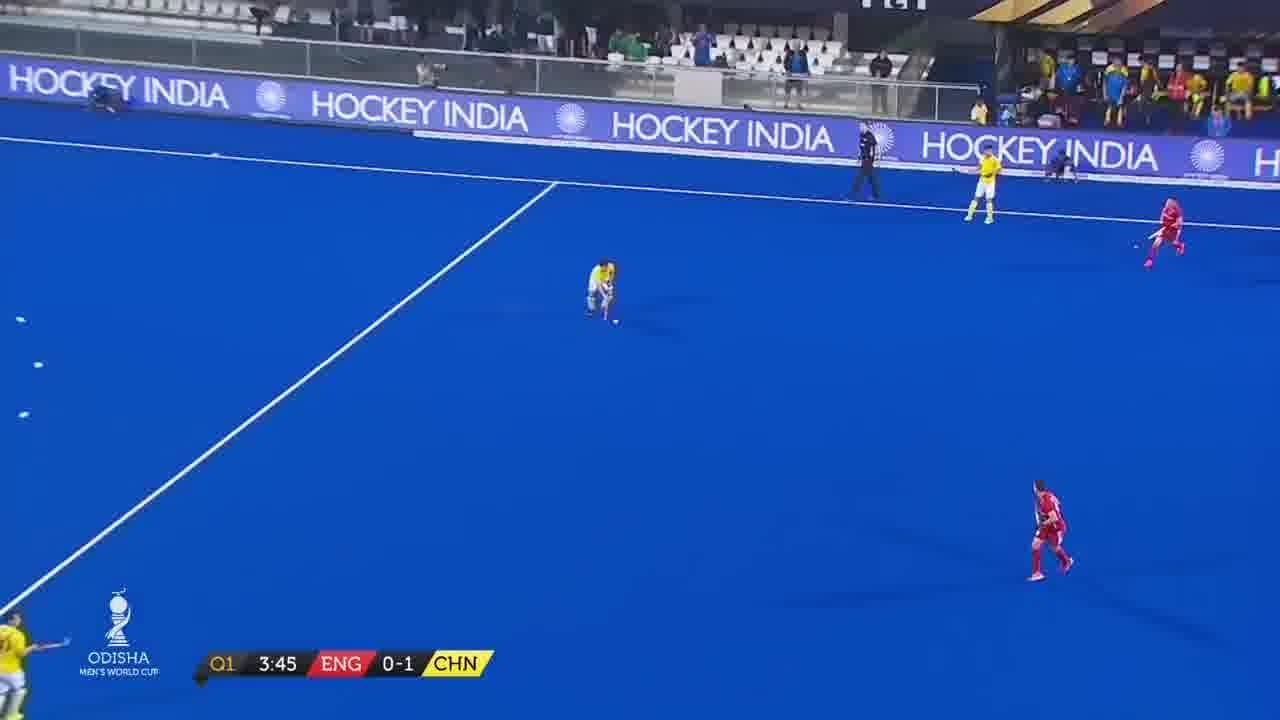ball: (610, 312, 625, 332)
